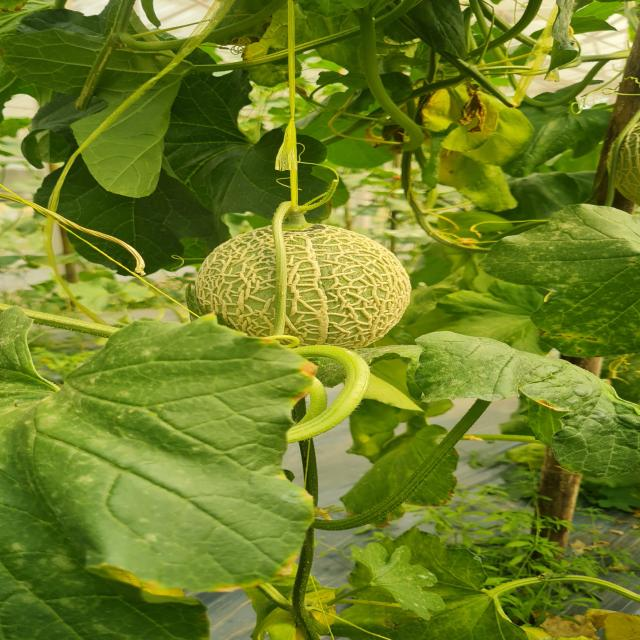melon: (282, 224, 411, 349), (196, 228, 276, 336)
